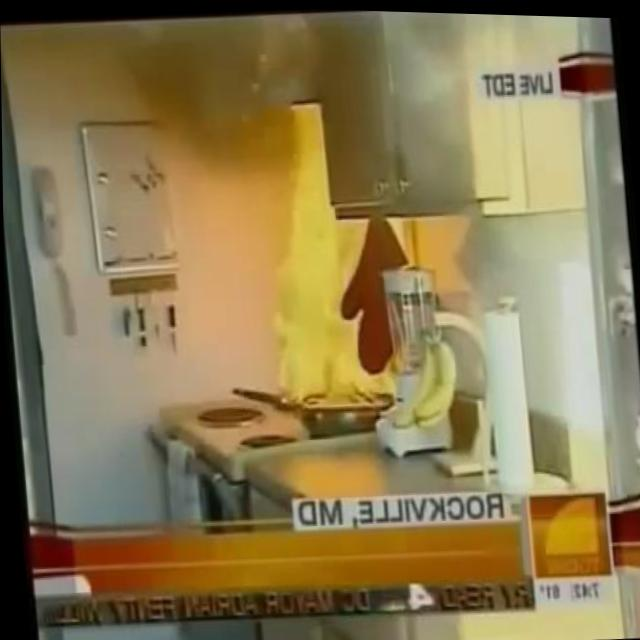fire: (249, 92, 419, 413)
